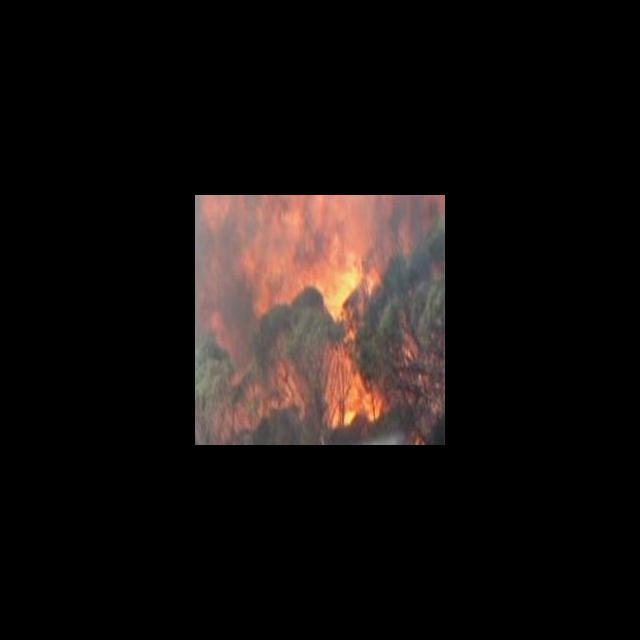Fire: (195, 195, 403, 425)
